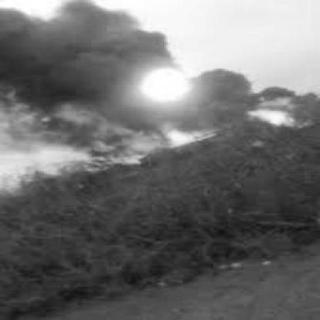Fire: (240, 96, 308, 128)
